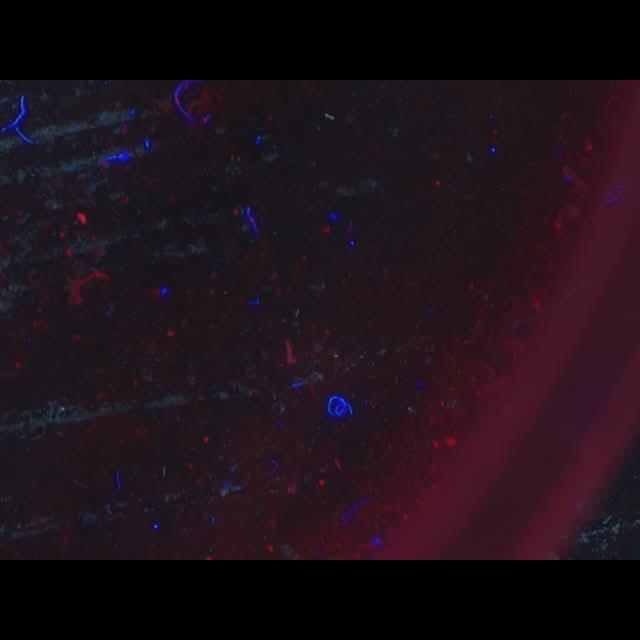microbeads: (325, 112, 334, 119)
